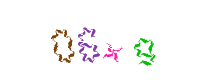0: (23, 0, 103, 80)
6: (50, 0, 130, 80)
G: (105, 0, 185, 80)
X: (60, 0, 140, 80)
